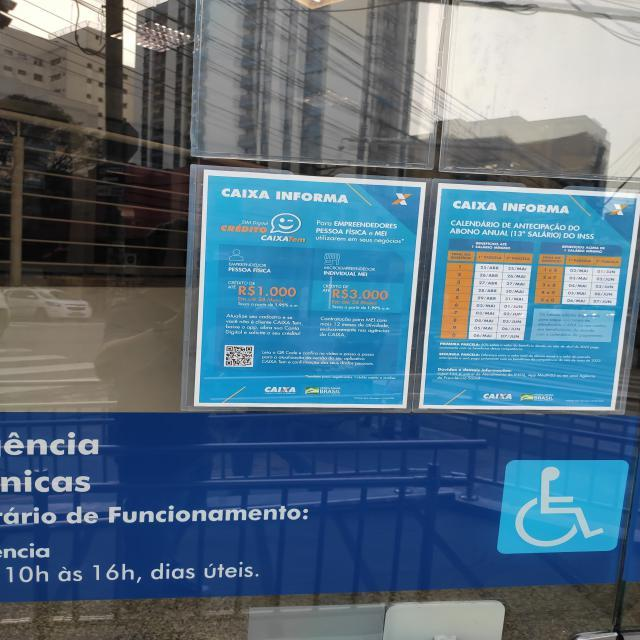qrcode: (227, 348, 253, 367)
